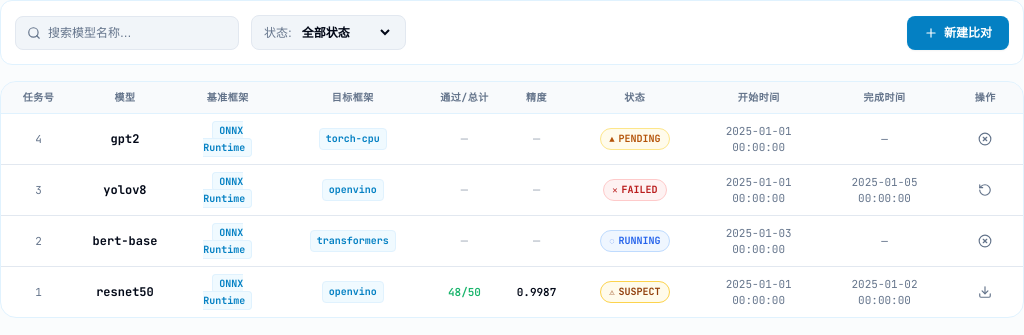
Test case: TaskTable › search › search is case-insensitive
Step 1. Type "RESNET" into the field with placeholder "搜索模型名称..." → (127,32), box [15,16,239,50]
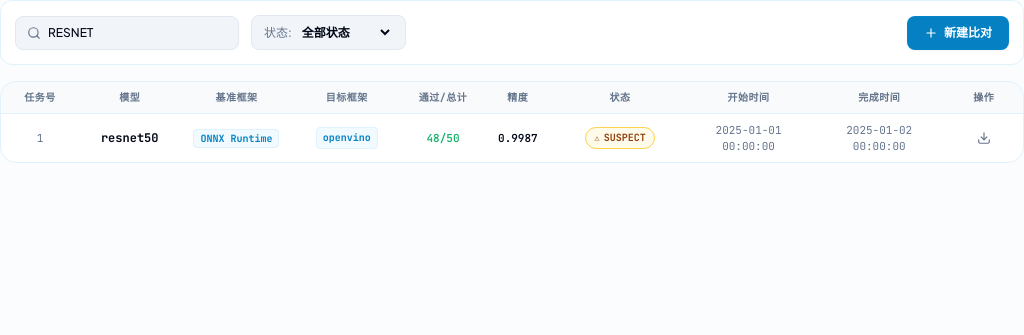
Expected: the text "resnet50" is shown, [101,130,158,146]
Result: the text "bert-base" is gone
